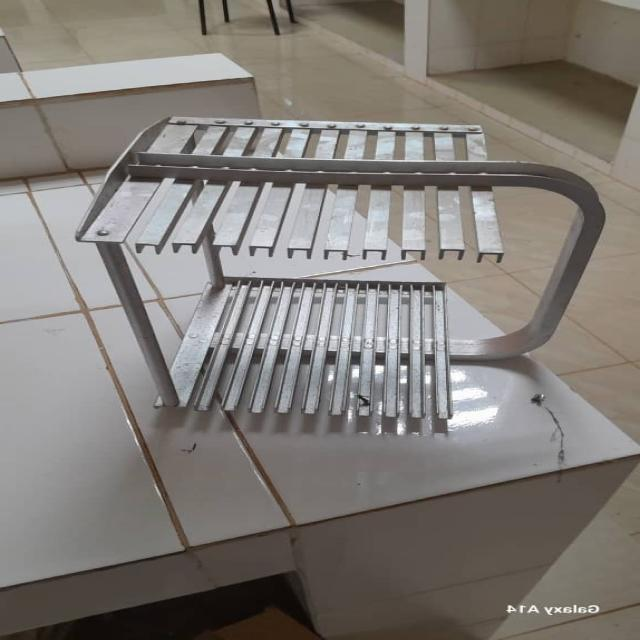Plate Rack: (65, 109, 608, 432)
